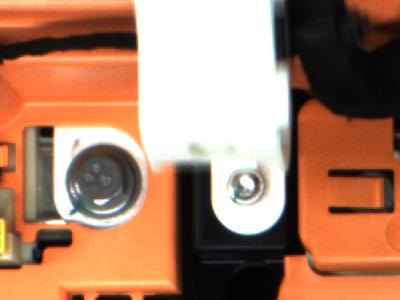nut_b: (63, 145, 146, 220)
screw_m: (223, 166, 271, 211)
